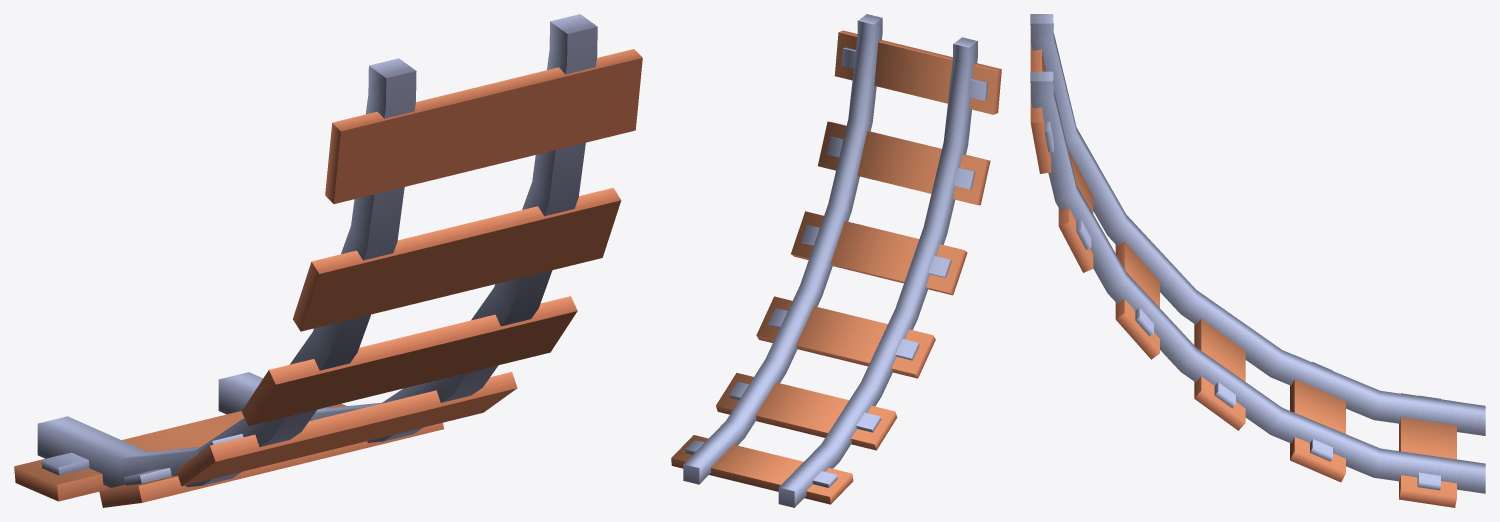
The model's file is railroad-straight-bend.glb.
3 renders of one model, left to right at view 1: azimuth 30°, elevation 25°; view 2: azimuth 150°, elevation 25°; view 3: azimuth 270°, elevation 25°, orthographic. The views are drawn at different scales.
Parts seen in each view (by area): view 1: railroad-straight-bend; view 2: railroad-straight-bend; view 3: railroad-straight-bend.
Boxes of the visible parts, x1=… form: railroad-straight-bend: x1=14, y1=14, x2=642, y2=507; railroad-straight-bend: x1=671, y1=14, x2=1001, y2=507; railroad-straight-bend: x1=1030, y1=14, x2=1485, y2=507.
Size of the model in its own units: 1 by 2 by 2.
Materials: 1 (1 with a texture image).
